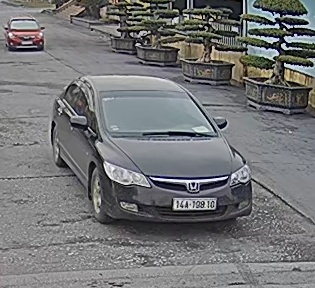vehicle plate: (169, 196, 218, 211)
